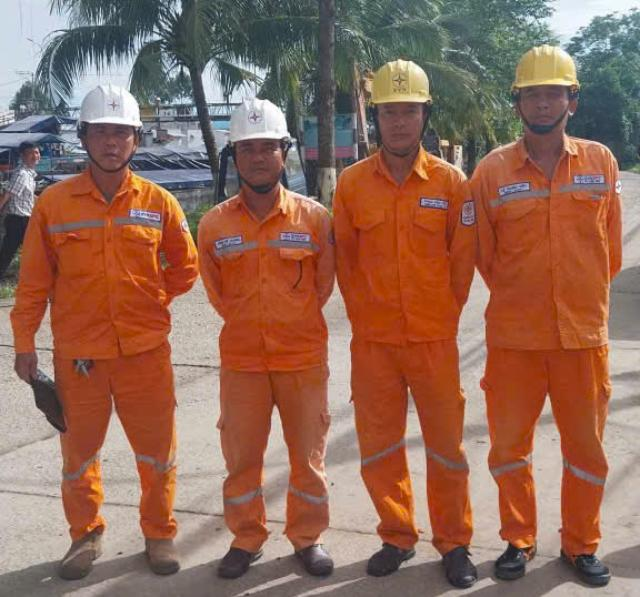helmet: (505, 36, 580, 99), (76, 82, 155, 140), (217, 91, 298, 146), (368, 57, 437, 113)
shoes: (61, 512, 112, 587), (280, 528, 345, 586), (550, 541, 619, 590), (132, 525, 185, 587), (364, 524, 421, 580), (489, 525, 539, 587), (437, 538, 487, 592), (217, 534, 265, 584)
